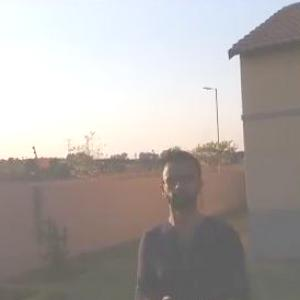follow: (130, 147, 256, 299)
